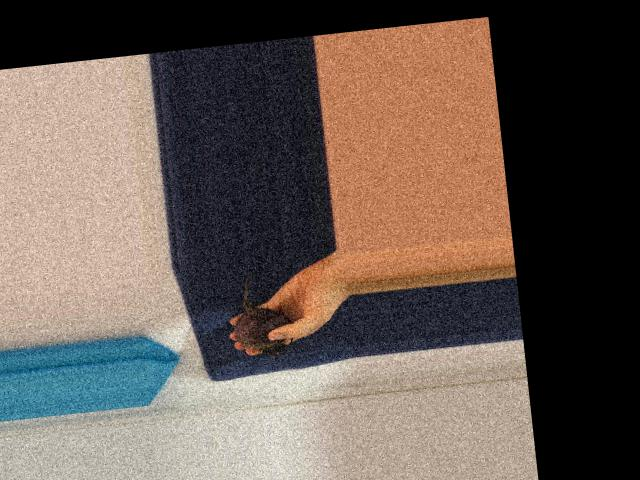beet: (228, 271, 294, 359)
